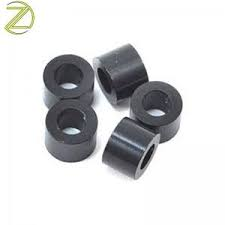No thread: (136, 86, 177, 119), (52, 61, 87, 92), (52, 105, 89, 134), (97, 65, 117, 96), (139, 142, 157, 173)
